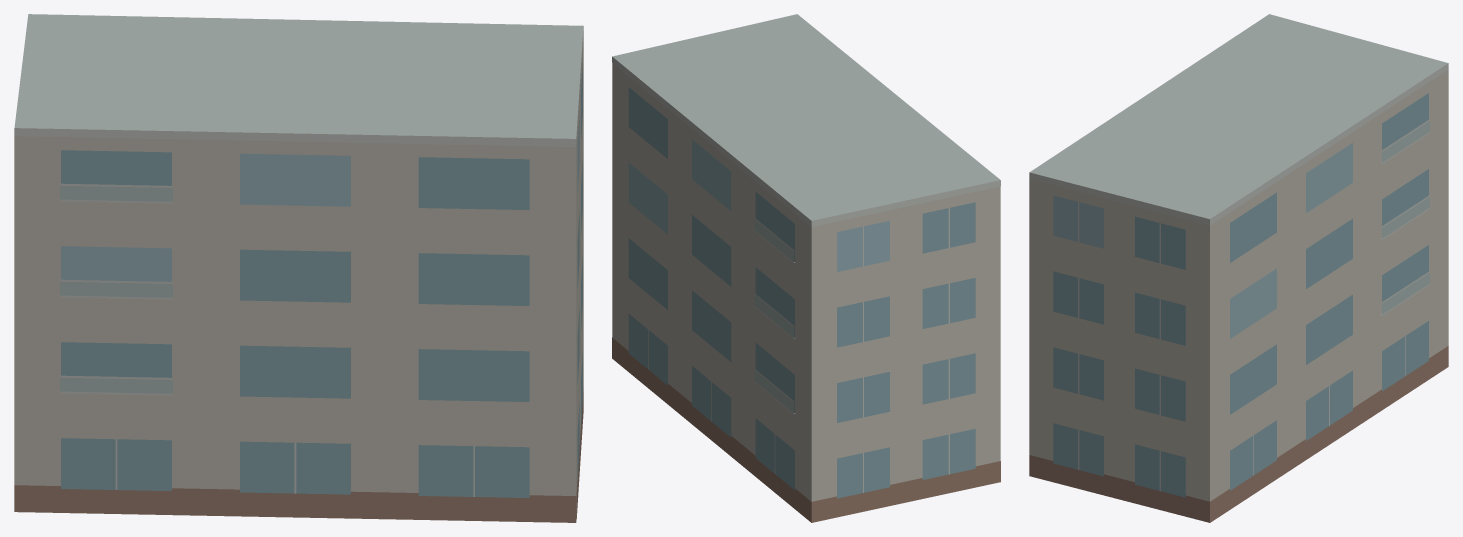
The model's file is survey-upis-32965695.glb.
The picture shows the model from 3 angles, left to right: view 1: azimuth 30°, elevation 25°; view 2: azimuth 150°, elevation 25°; view 3: azimuth 270°, elevation 25°; orthographic projection. The views are drawn at different scales.
Parts seen in each view (by area): view 1: survey-upis-32965695.tmp; view 2: survey-upis-32965695.tmp; view 3: survey-upis-32965695.tmp.
Part boxes in pixels (x1,y1,x2,y2): survey-upis-32965695.tmp: (14,14,583,522); survey-upis-32965695.tmp: (612,14,1000,522); survey-upis-32965695.tmp: (1029,14,1448,522).
Bounding box in the file's own units: 16.96 × 11.7 × 14.65.
